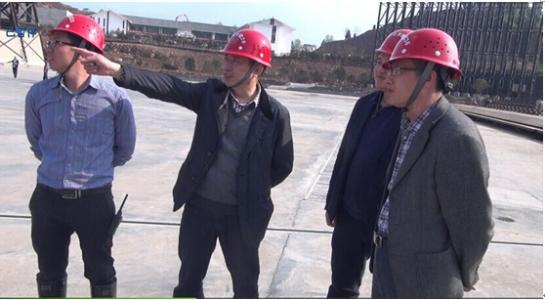helmet: (389, 22, 466, 111), (35, 8, 118, 82), (216, 23, 282, 98), (376, 27, 415, 102)
